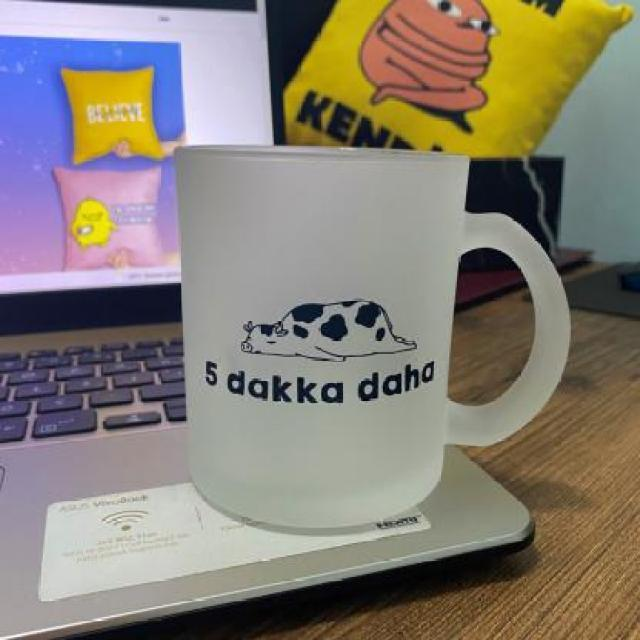taza: (154, 135, 582, 538)
